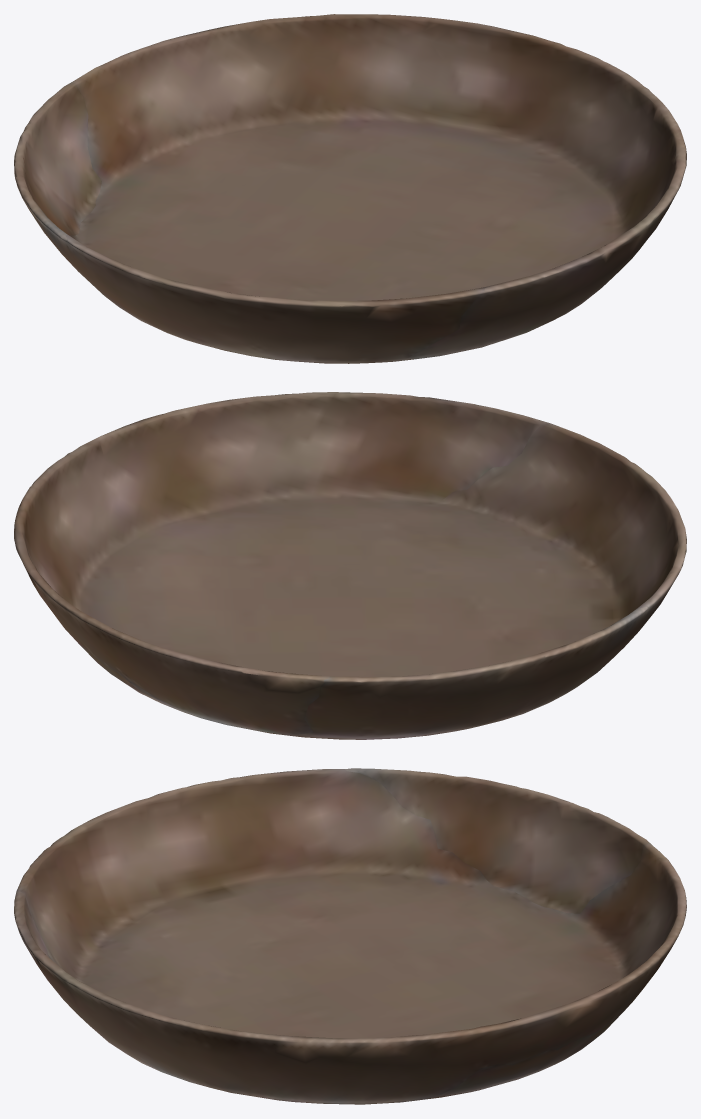
The model's file is Ecoforms_Plant_Saucer_S17MOCHA-high.glb.
3 renders of one model, top to bottom at view 1: azimuth 30°, elevation 25°; view 2: azimuth 150°, elevation 25°; view 3: azimuth 270°, elevation 25°, orthographic.
Parts seen in each view (by area): view 1: Ecoforms_Plant_Saucer_S17MOCHA; view 2: Ecoforms_Plant_Saucer_S17MOCHA; view 3: Ecoforms_Plant_Saucer_S17MOCHA.
Boxes of the visible parts, x1,y1,x2,y2 form: Ecoforms_Plant_Saucer_S17MOCHA: (14,14,686,363); Ecoforms_Plant_Saucer_S17MOCHA: (14,392,686,739); Ecoforms_Plant_Saucer_S17MOCHA: (14,768,686,1104).
Bounding box in the file's own units: 0.1768 × 0.0304 × 0.1769.
1 material, 1 textured.
